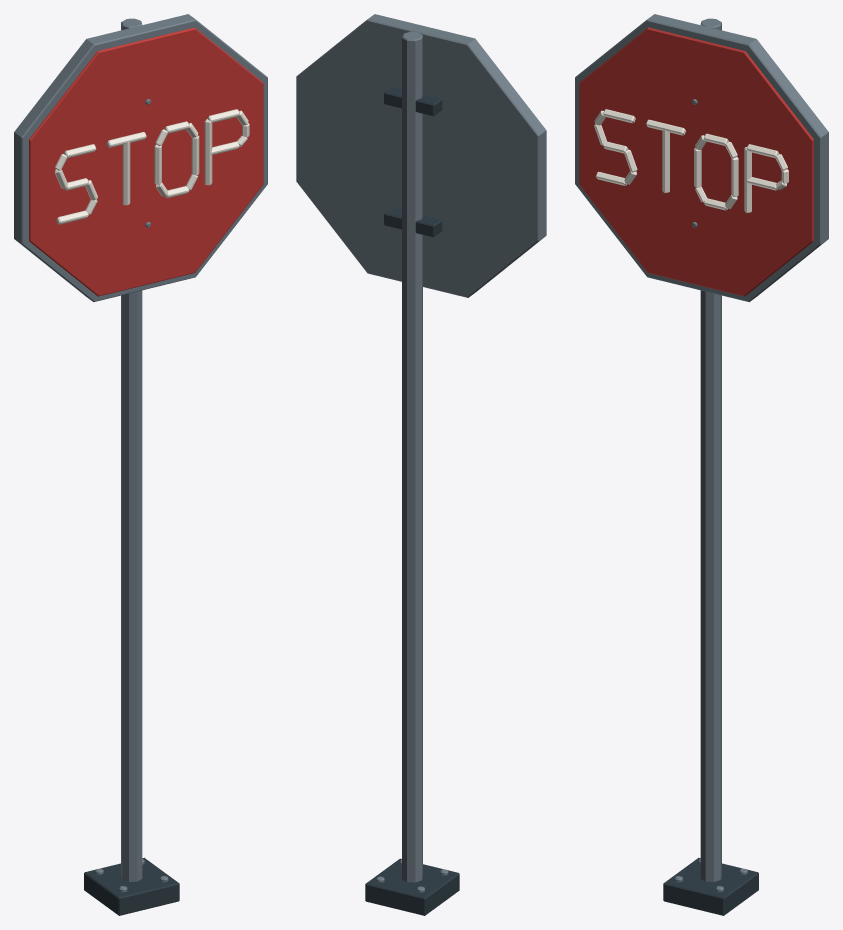
The model's file is b02_stop_sign.glb.
The picture shows the model from 3 angles, left to right: view 1: azimuth 30°, elevation 25°; view 2: azimuth 150°, elevation 25°; view 3: azimuth 330°, elevation 25°; orthographic projection.
Visible parts, largest first — view 1: b02_stop_sign; view 2: b02_stop_sign; view 3: b02_stop_sign.
Part boxes in pixels (<box>): b02_stop_sign: <box>14,14,267,915</box>; b02_stop_sign: <box>296,14,546,915</box>; b02_stop_sign: <box>575,14,828,915</box>.
Bounding box in the file's own units: 0.7206 × 2.44 × 0.2008.
